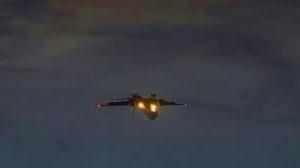Plane: (87, 85, 192, 124)
